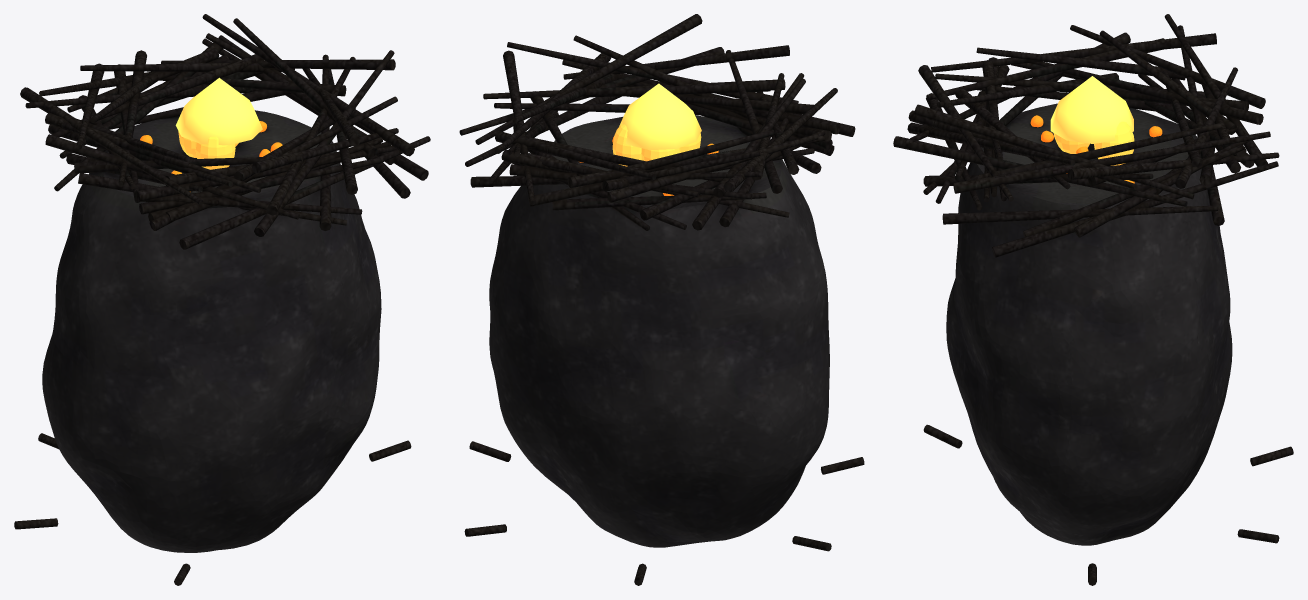
The model's file is escoria_ninho_fenix.glb.
3 renders of one model, left to right at view 1: azimuth 30°, elevation 25°; view 2: azimuth 150°, elevation 25°; view 3: azimuth 270°, elevation 25°, orthographic.
Visible parts, largest first — view 1: escoria_ninho_fenix_tronco, labareda, ovo2; view 2: escoria_ninho_fenix_tronco, labareda, ovo1; view 3: escoria_ninho_fenix_tronco, labareda, ovo1.
Part boxes in pixels (box(x1,y1,x2,y2)): escoria_ninho_fenix_tronco: box(14, 14, 430, 585); labareda: box(175, 77, 262, 145); ovo2: box(195, 136, 235, 169); escoria_ninho_fenix_tronco: box(459, 14, 864, 585); labareda: box(619, 83, 701, 150); ovo1: box(612, 124, 641, 166); escoria_ninho_fenix_tronco: box(893, 14, 1293, 585); labareda: box(1050, 76, 1133, 143); ovo1: box(1094, 121, 1134, 165).
Size of the model in its own units: 2.99 by 3.5 by 2.74.
13 materials, 1 textured.
